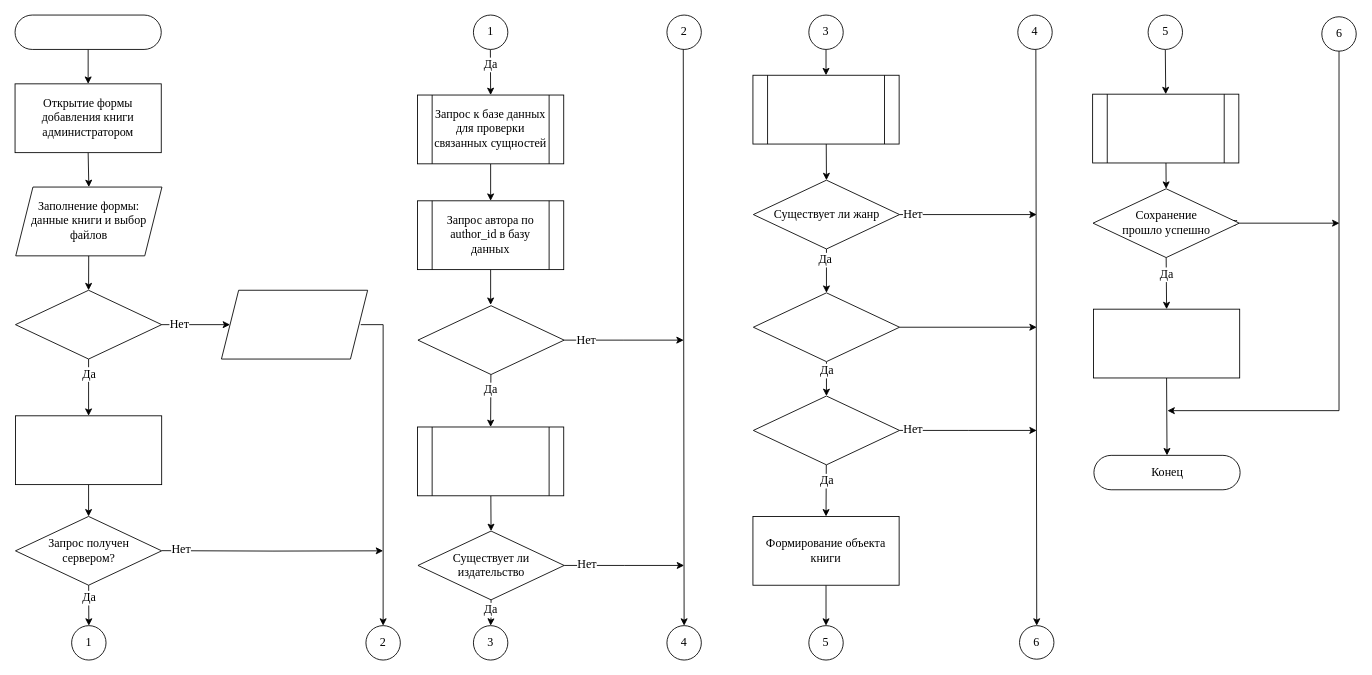
The diagram is 1372 pixels wide and 675 high, and some of its shapes have lost their labels. The centre of each missing label's shape, as x and y in pixels:
Валиден ли ISBN: the point at 826,327
Валиден ли год: the point at 826,430
Данные заполнены корректно?: the point at 88,324
Запрос жанра по genre_id в базу данных: the point at 825,109
Запрос издательства по publisher_id в базу данных: the point at 490,461
Начало: the point at 87,31
Обновление состояния на клиенте: the point at 1166,343
Отображение ошибки пользователю: the point at 294,324
Отправка данных на сервер: the point at 88,450
Сохранение книги в базу данных: the point at 1165,128
Существует ли автор: the point at 490,340
